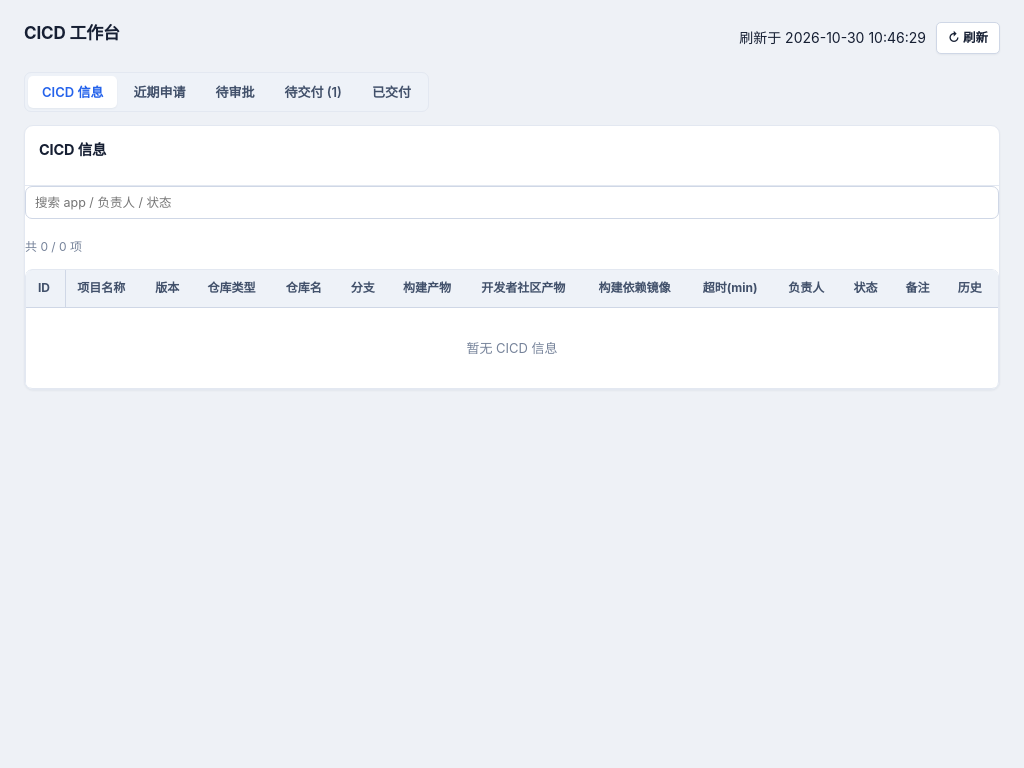
Test case: CicdPage › DetailDialog: renders task basic info as a compact delivery summary
The width and height of the screenshot is (1024, 768).
Click the button "待交付 (1)" at (313, 92), box [270,76,356,108]
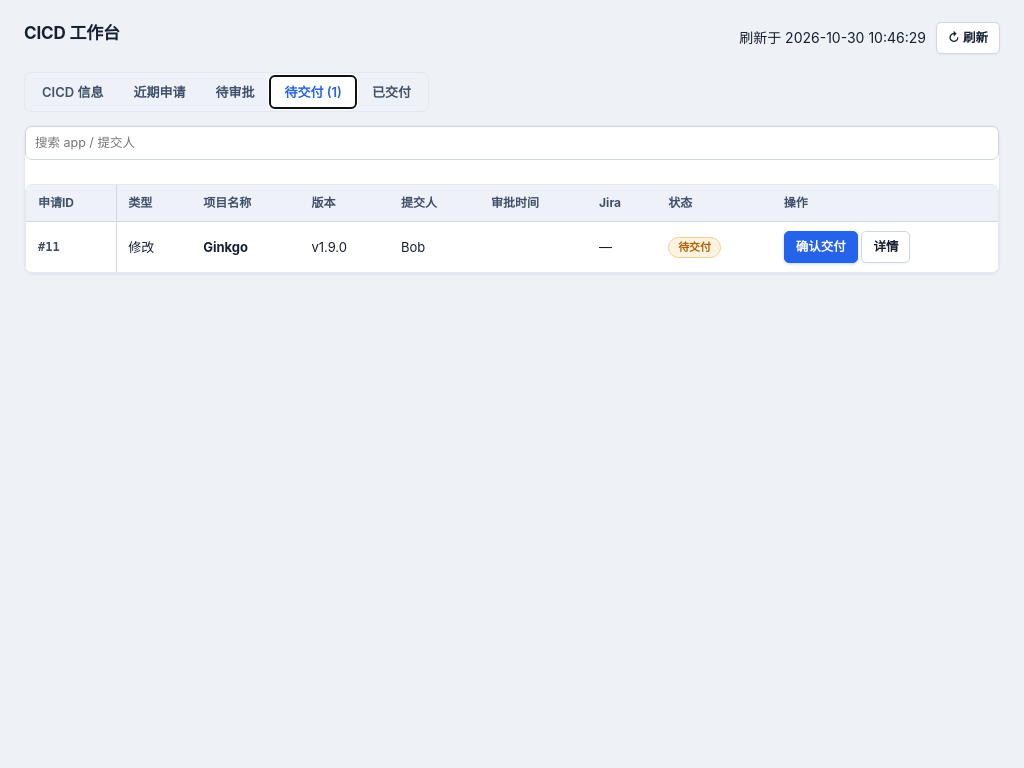
Click the button "详情" at (886, 247), box [861,232,910,263]
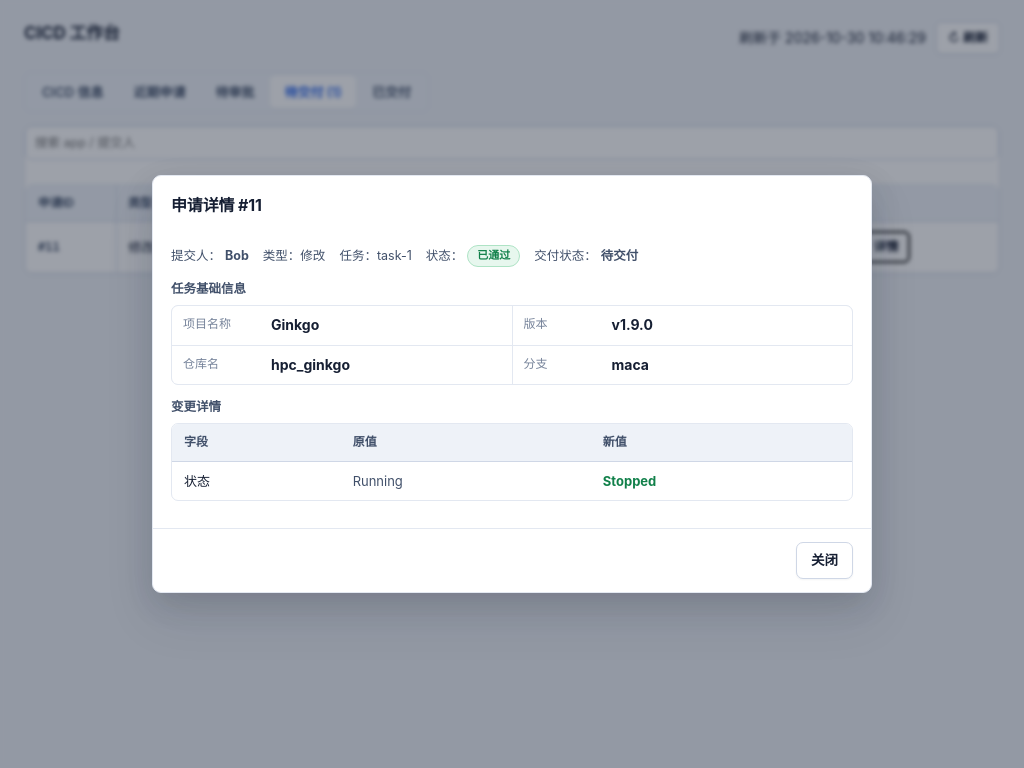
expect the text "任务基础信息" is shown: met, box [171,281,246,296]
expect the text "项目名称" is shown: met, box [183,316,231,331]
expect the text "Ginkgo" is shown: met, box [271,316,319,333]
